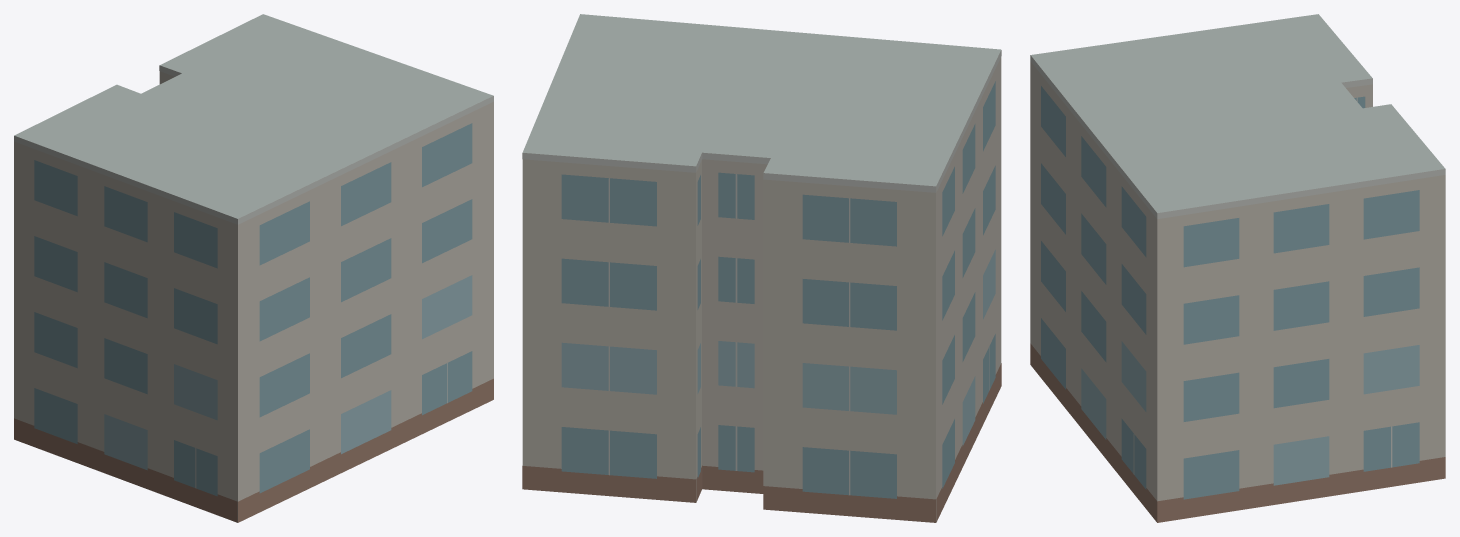
Rendered from survey-upis-32748267.glb.
The picture shows the model from 3 angles, left to right: view 1: azimuth 30°, elevation 25°; view 2: azimuth 150°, elevation 25°; view 3: azimuth 270°, elevation 25°; orthographic projection. The views are drawn at different scales.
Visible parts, largest first — view 1: survey-upis-32748267.tmp; view 2: survey-upis-32748267.tmp; view 3: survey-upis-32748267.tmp.
Part boxes in pixels (bbox=[...]): survey-upis-32748267.tmp: bbox=[14, 14, 493, 522]; survey-upis-32748267.tmp: bbox=[522, 14, 1001, 522]; survey-upis-32748267.tmp: bbox=[1030, 14, 1445, 522].
Bounding box in the file's own units: 17.39 × 12.6 × 15.32.
